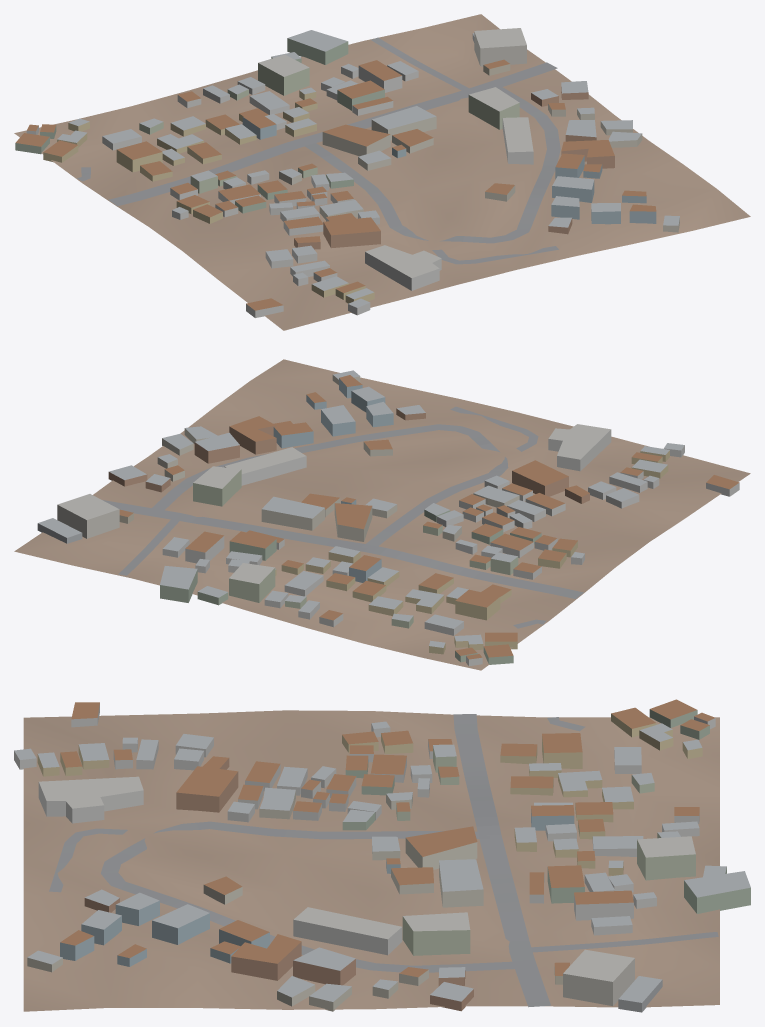
3 renders of one model, top to bottom at view 1: azimuth 30°, elevation 25°; view 2: azimuth 150°, elevation 25°; view 3: azimuth 270°, elevation 25°, orthographic. The views are drawn at different scales.
Parts seen in each view (by area): view 1: Lo; view 2: Lo; view 3: Lo.
Boxes of the visible parts, x1,y1,x2,y2 form: Lo: (14,14,750,330); Lo: (14,359,750,670); Lo: (14,699,750,1012).
Bounding box in the file's own units: 268 × 13.22 × 271.
